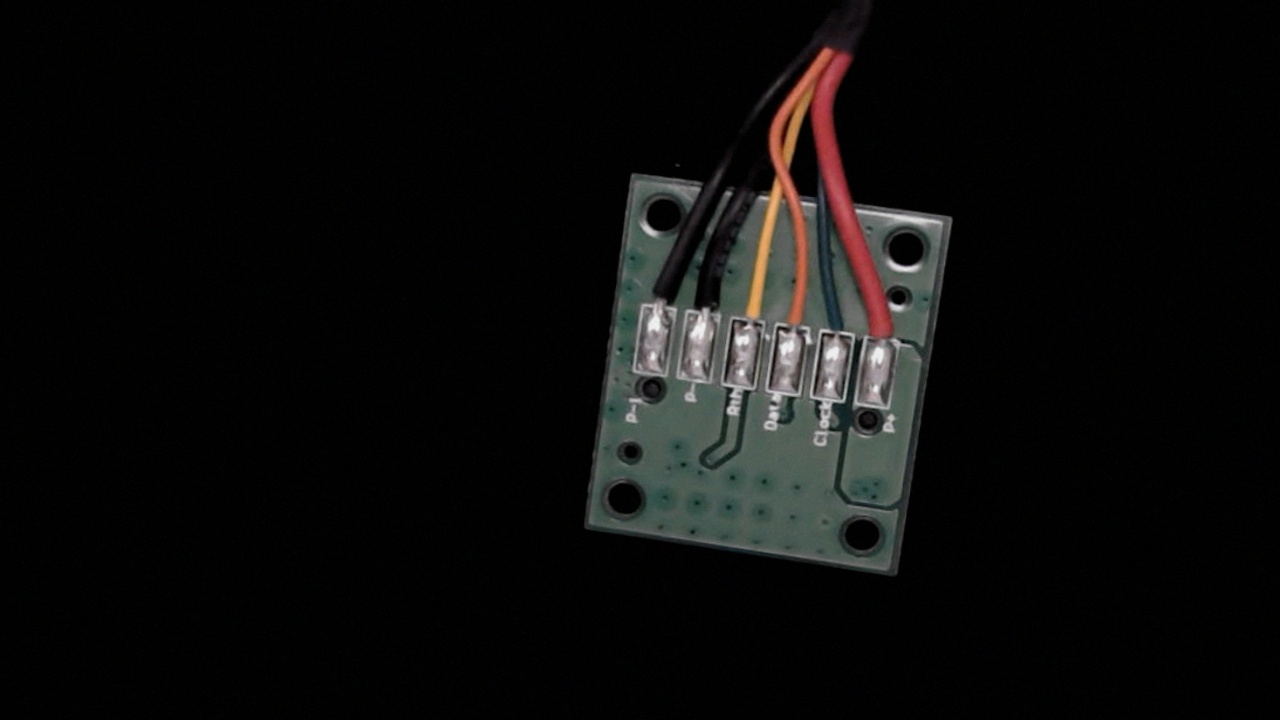Black: (681, 250, 733, 336)
Black1: (636, 248, 685, 328)
Green: (819, 289, 862, 359)
Orange: (773, 264, 821, 346)
Red: (858, 279, 910, 363)
Yellow: (726, 254, 779, 342)
